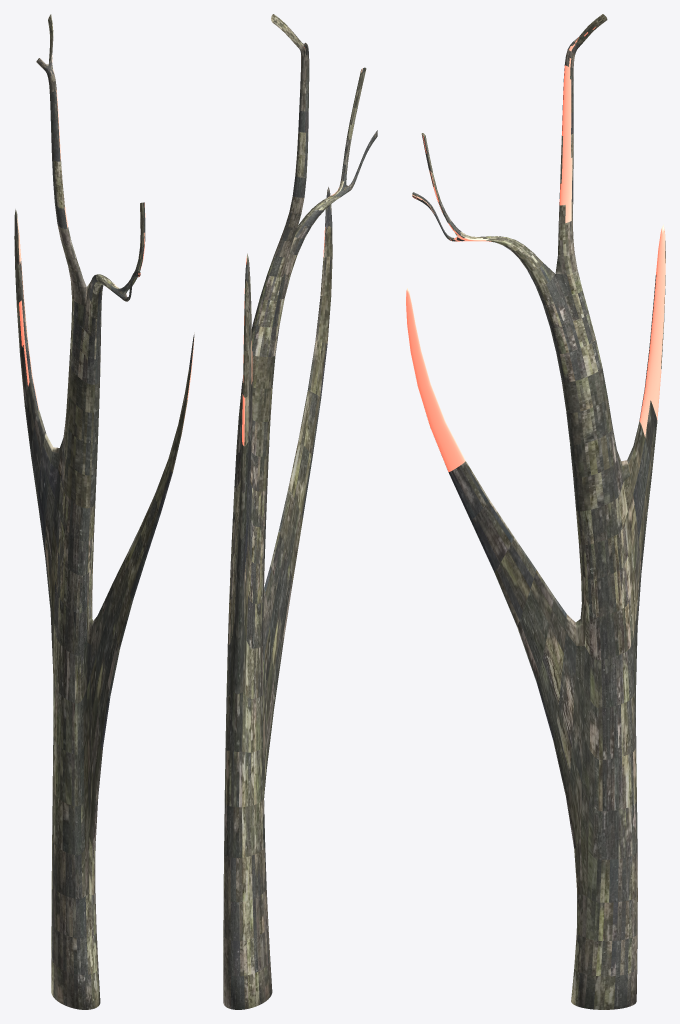
File: branchburning.glb
The picture shows the model from 3 angles, left to right: view 1: azimuth 30°, elevation 25°; view 2: azimuth 150°, elevation 25°; view 3: azimuth 270°, elevation 25°; orthographic projection.
Parts seen in each view (by area): view 1: Circle; view 2: Circle; view 3: Circle.
Part boxes in pixels (x1,y1,x2,y2): Circle: (14,14,194,1009); Circle: (223,14,377,1009); Circle: (406,14,665,1009).
Size of the model in its own units: 0.05 by 0.6907 by 0.1668.
2 materials, 1 textured.
